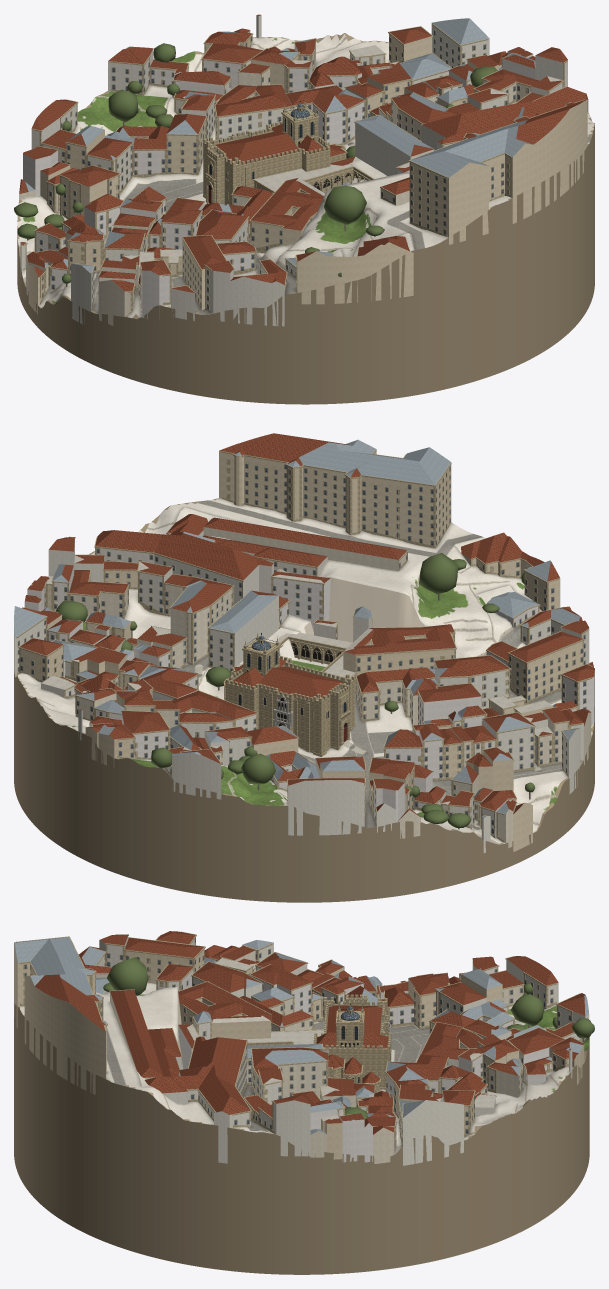
Rendered from se-velha-rico.glb.
3 views of the same model, one above another, from view 1: azimuth 30°, elevation 25°; view 2: azimuth 150°, elevation 25°; view 3: azimuth 270°, elevation 25° (orthographic).
Parts seen in each view (by area): view 1: Edif_contexto, Terreno, Rico_cantaria, Edif_conjunto_way_41222810_pedra-se, Arvores, Rico_janela, Edif_conjunto_way_41222810_telha, Edif_conjunto_relation_3475986, Edif_conjunto_relation_3475986_pedra-se; view 2: Edif_contexto, Terreno, Rico_cantaria, Rico_janela, Edif_conjunto_way_41222810_pedra-se, Arvores, Edif_conjunto_way_41222810_telha, Edif_conjunto_relation_3475986, Edif_conjunto_relation_3475986_pedra-se; view 3: Terreno, Edif_contexto, Rico_cantaria, Edif_conjunto_way_41222810_pedra-se, Arvores, Rico_janela, Edif_conjunto_way_41222810_telha, Edif_conjunto_relation_3475986.
Boxes of the visible parts, box(x1,y1,x2,y2) form: Edif_contexto: box(19, 14, 588, 326); Terreno: box(17, 33, 594, 404); Rico_cantaria: box(23, 24, 584, 315); Edif_conjunto_way_41222810_pedra-se: box(203, 99, 347, 204); Arvores: box(14, 43, 497, 283); Rico_janela: box(40, 30, 528, 309); Edif_conjunto_way_41222810_telha: box(216, 124, 345, 163); Edif_conjunto_relation_3475986: box(255, 156, 368, 192); Edif_conjunto_relation_3475986_pedra-se: box(303, 166, 374, 192); Edif_contexto: box(14, 433, 594, 852); Terreno: box(14, 498, 594, 902); Rico_cantaria: box(16, 450, 593, 842); Rico_janela: box(18, 463, 585, 833); Edif_conjunto_way_41222810_pedra-se: box(223, 631, 355, 756); Arvores: box(55, 553, 534, 827); Edif_conjunto_way_41222810_telha: box(225, 658, 343, 699); Edif_conjunto_relation_3475986: box(236, 632, 354, 678); Edif_conjunto_relation_3475986_pedra-se: box(279, 636, 346, 673); Terreno: box(14, 982, 589, 1274); Edif_contexto: box(14, 931, 589, 1165); Rico_cantaria: box(16, 931, 585, 1150); Edif_conjunto_way_41222810_pedra-se: box(313, 994, 391, 1093); Arvores: box(103, 957, 594, 1118); Rico_janela: box(24, 938, 570, 1142); Edif_conjunto_way_41222810_telha: box(316, 1005, 388, 1083); Edif_conjunto_relation_3475986: box(240, 1030, 323, 1045).
Bounding box in the file's own units: 190 × 81.12 × 192.
26 materials, 19 textured.
